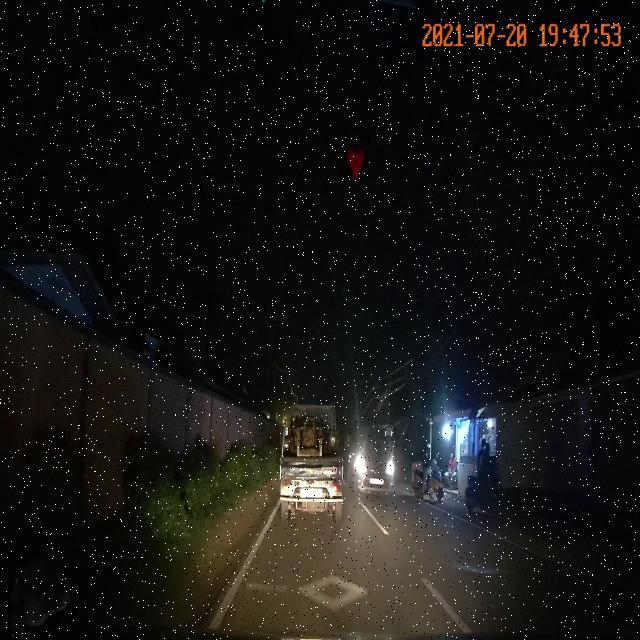diamond: (208, 568, 471, 629)
